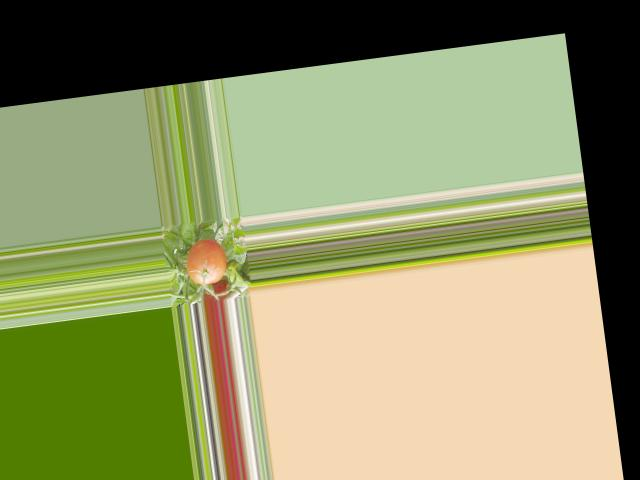tomato: (183, 238, 228, 287)
